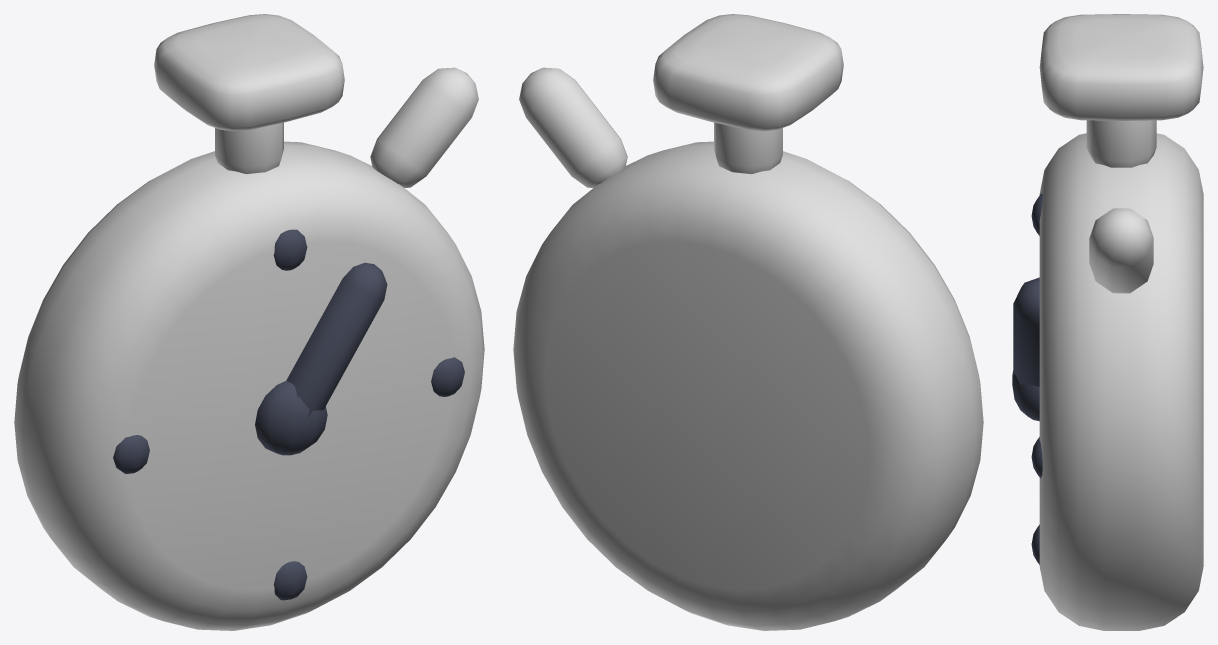
The model's file is timer.glb.
3 views of the same model, side by side, from view 1: azimuth 30°, elevation 25°; view 2: azimuth 150°, elevation 25°; view 3: azimuth 270°, elevation 25° (orthographic).
Parts seen in each view (by area): view 1: timer; view 2: timer; view 3: timer.
Part boxes in pixels (box(x1,y1,x2,y2)): timer: box(14, 14, 484, 630); timer: box(513, 14, 983, 630); timer: box(1012, 14, 1203, 630).
Size of the model in its own units: 0.8117 by 1 by 0.3038.
